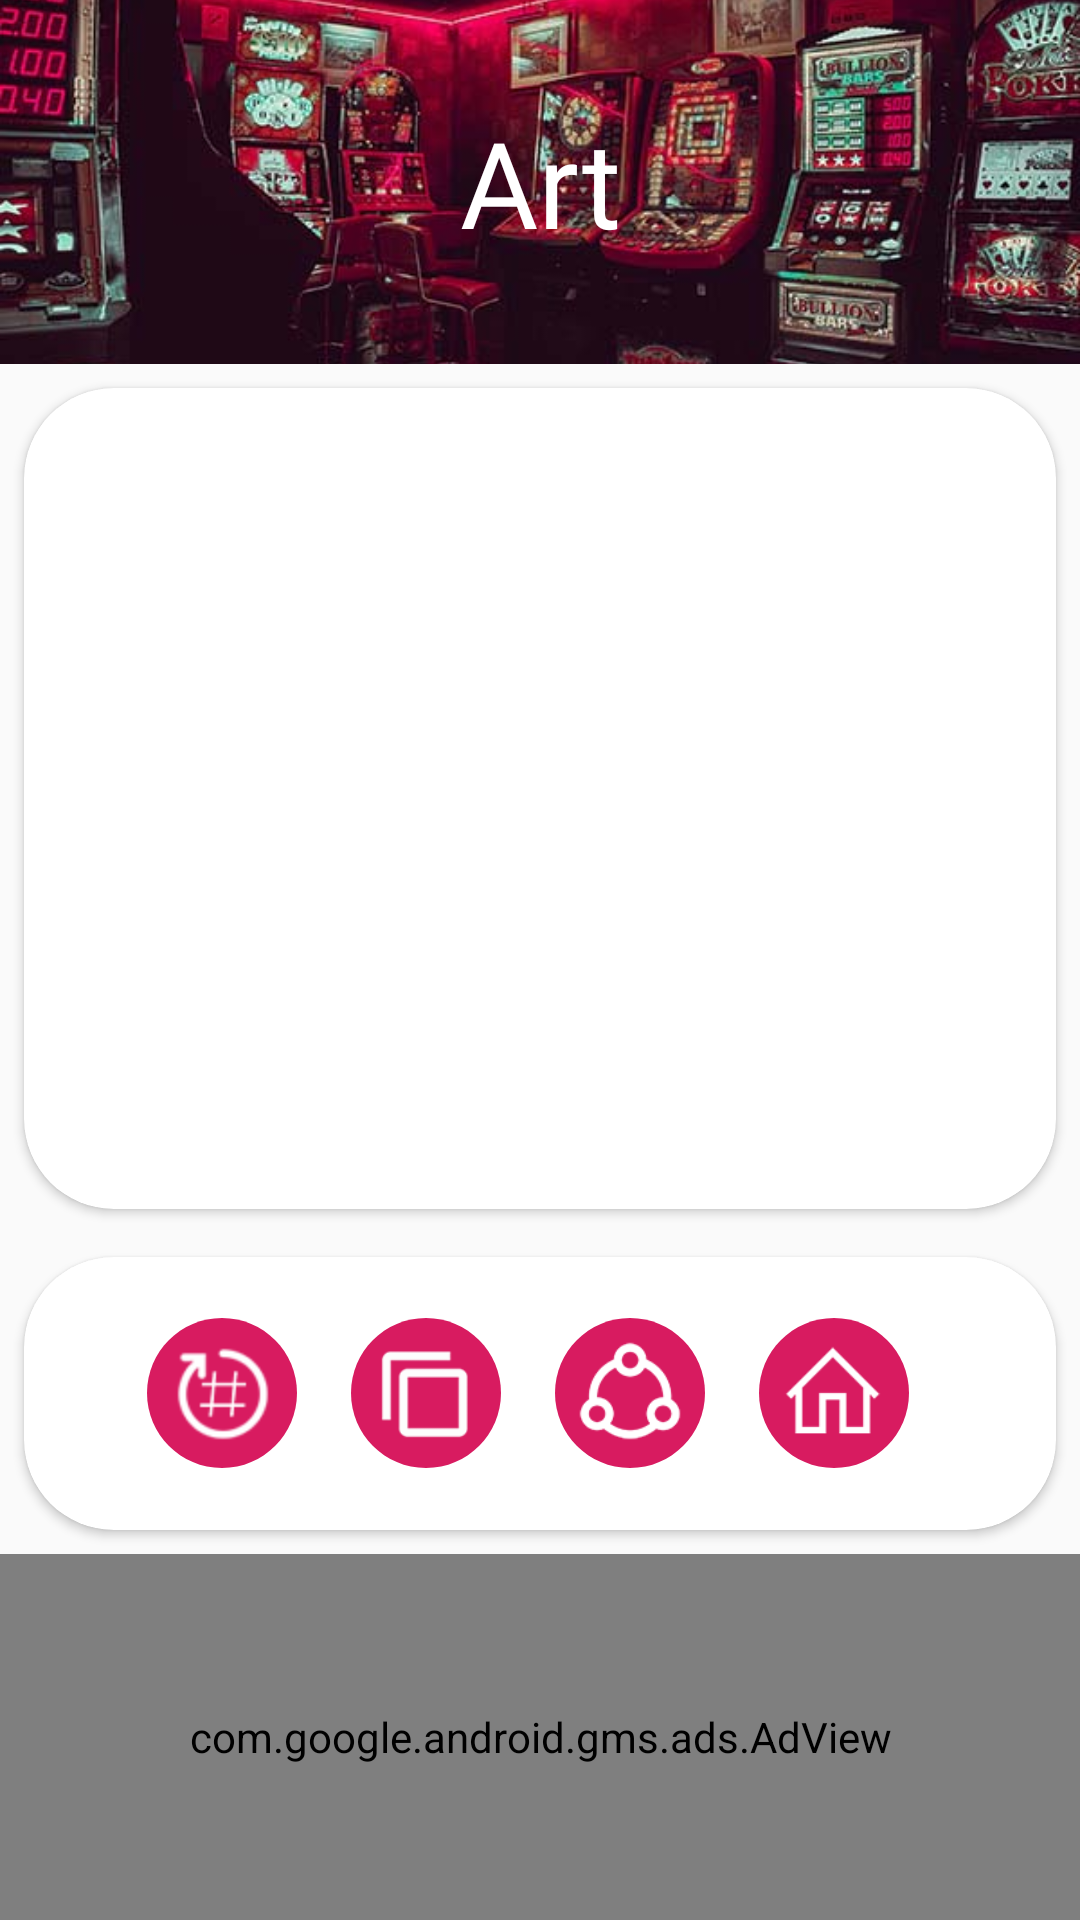

Named icons in this screenshot (1080w x 1920h) and their bounding boxes, BBox(x1, y1, x2, y2):
home: BBox(759, 1318, 909, 1468)
regenerate: BBox(147, 1318, 297, 1468)
share: BBox(555, 1318, 705, 1468)
